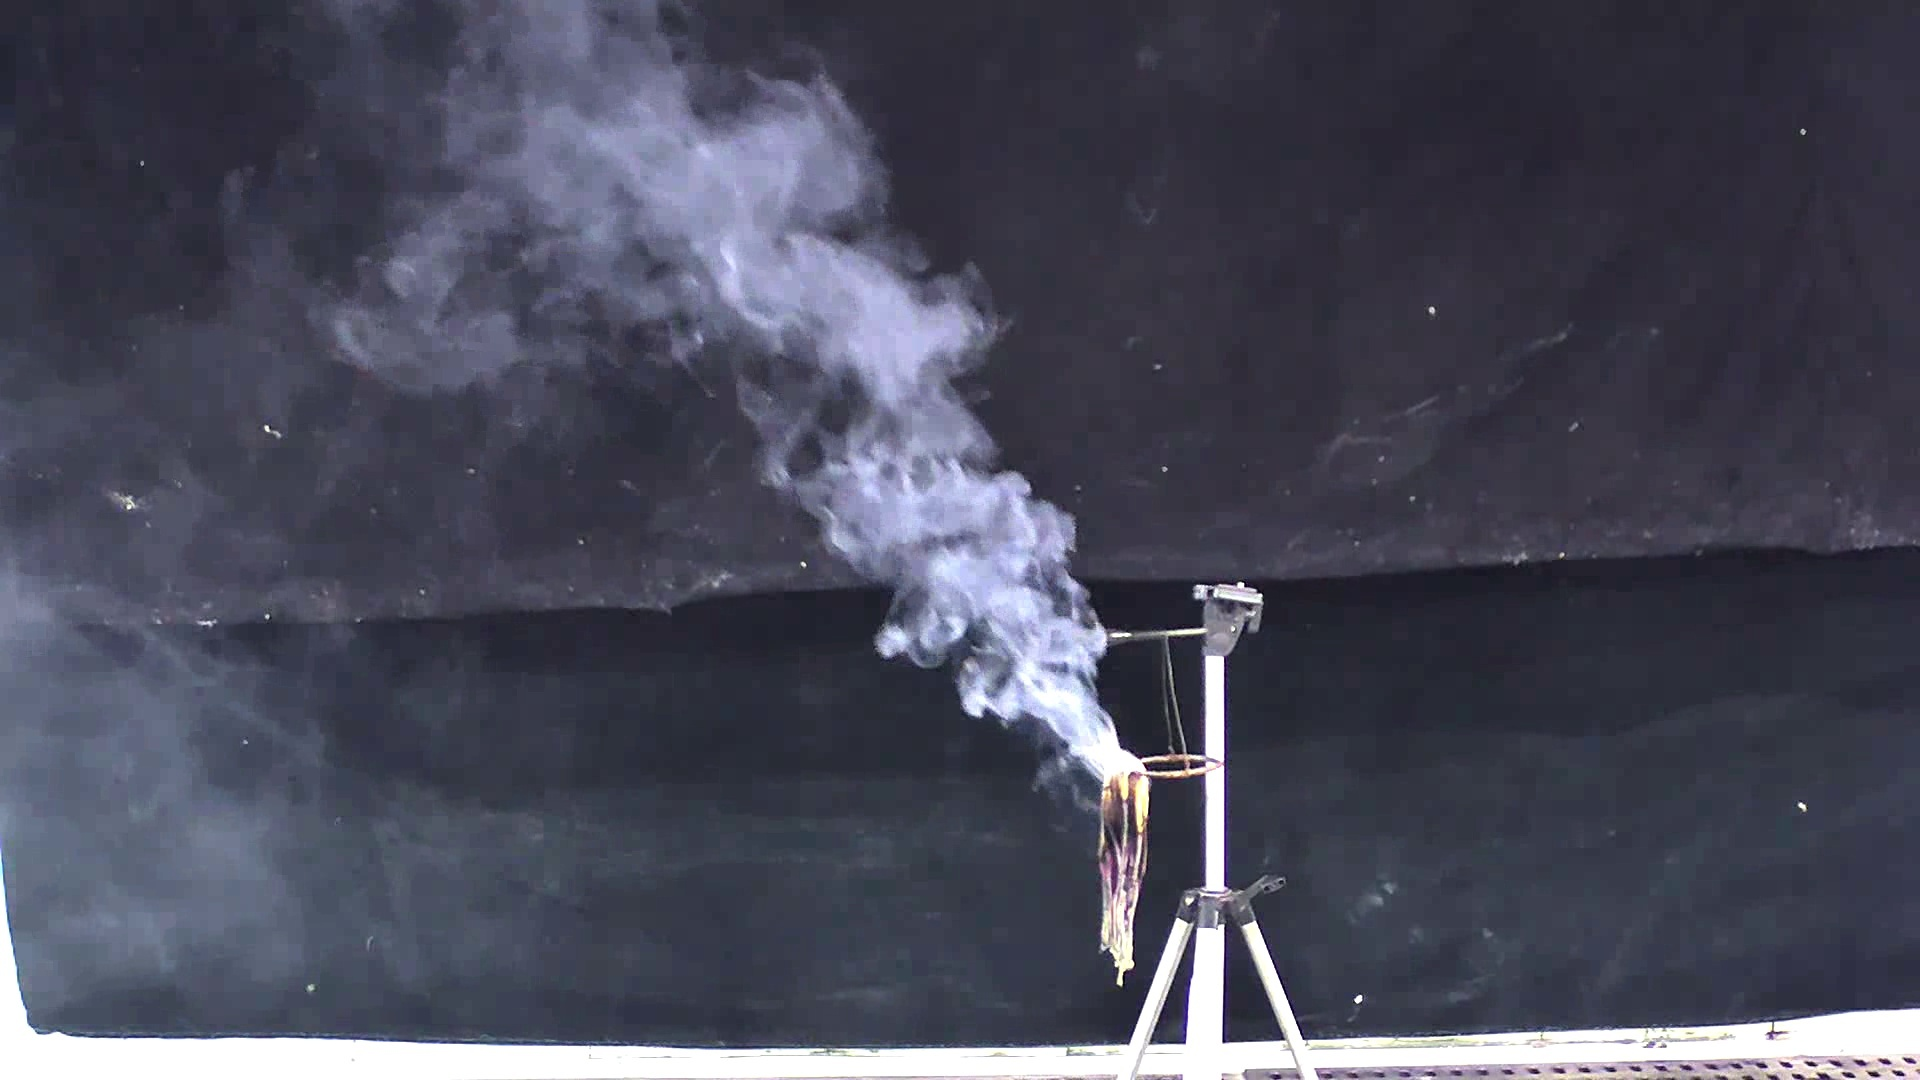smoke: (334, 1, 1139, 791)
